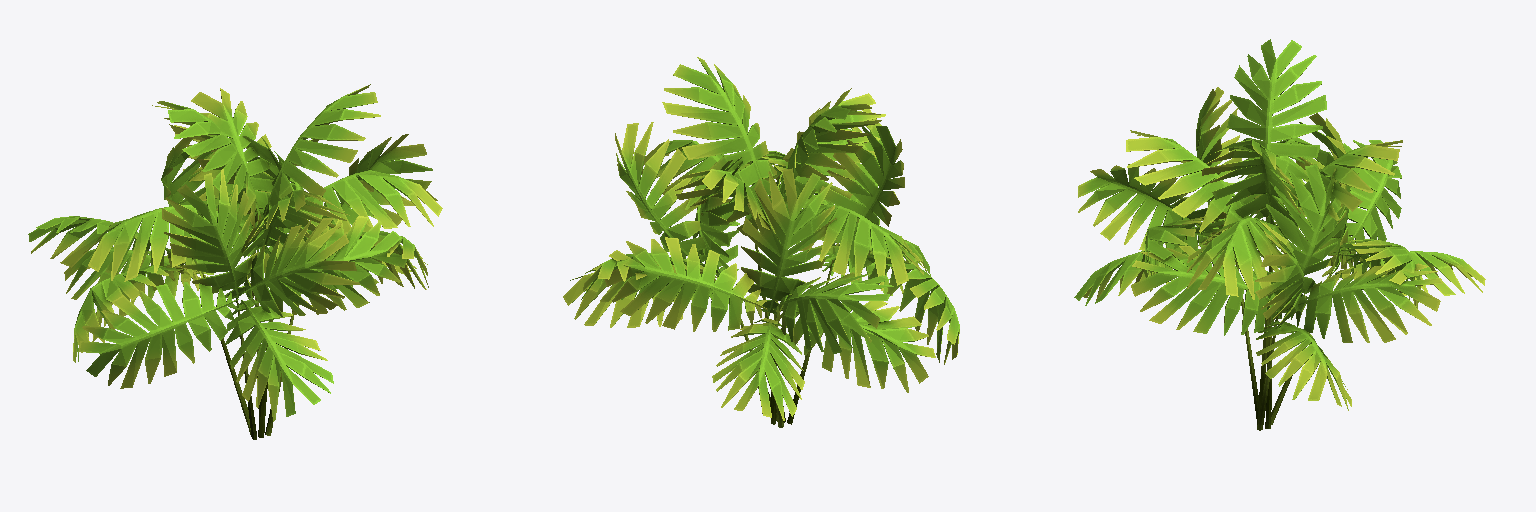
3 views of the same model, side by side, from view 1: azimuth 30°, elevation 25°; view 2: azimuth 150°, elevation 25°; view 3: azimuth 270°, elevation 25° (orthographic).
Visible parts, largest first — view 1: IvoryPalmTree_mesh; view 2: IvoryPalmTree_mesh; view 3: IvoryPalmTree_mesh.
Boxes of the visible parts, x1,y1,x2,y2 form: IvoryPalmTree_mesh: [28, 84, 442, 439]; IvoryPalmTree_mesh: [563, 57, 959, 427]; IvoryPalmTree_mesh: [1074, 39, 1485, 430].
Bounding box in the file's own units: 10.64 × 9.64 × 10.39.
1 materials, 1 textured.